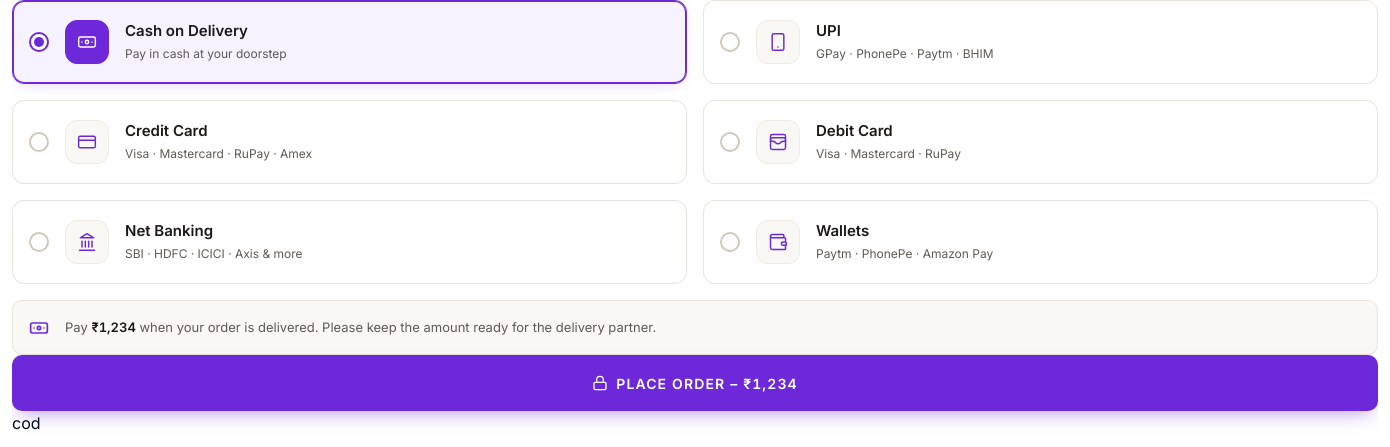
Scenario: CheckoutCta › Debit Card never submits: no payment attempt, no silent switch to COD
What coordinates should you click on to do the following:
click the radio button labelled "Debit Card Visa · Mastercard · RuPay"
I would click on:
 (778, 142)
Its box is [703,100,1378,184].
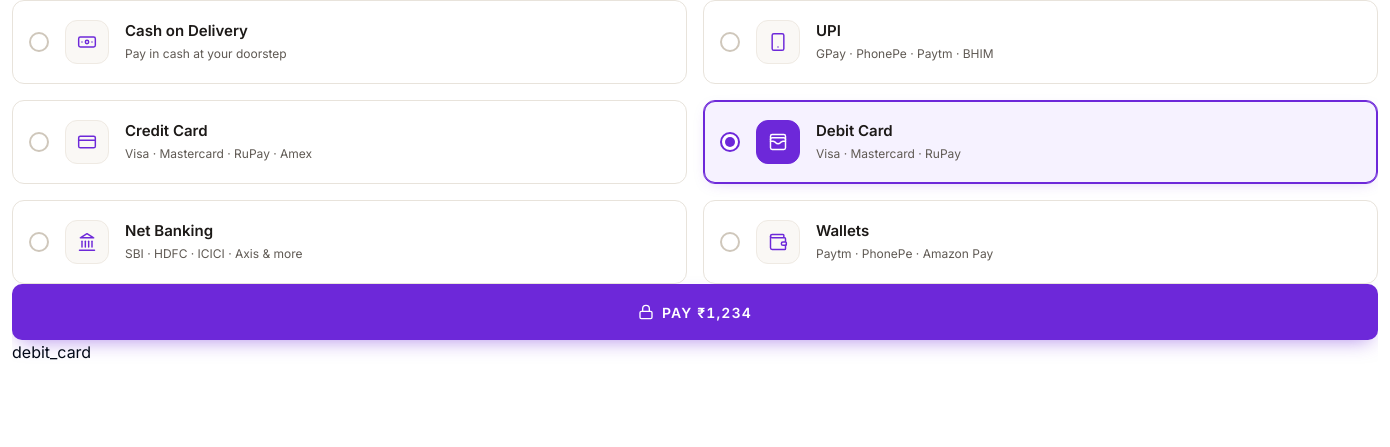
What coordinates should you click on to do the following:
click the button "Pay ₹1,234"
I would click on:
 (695, 312)
Its box is [12,284,1378,340].
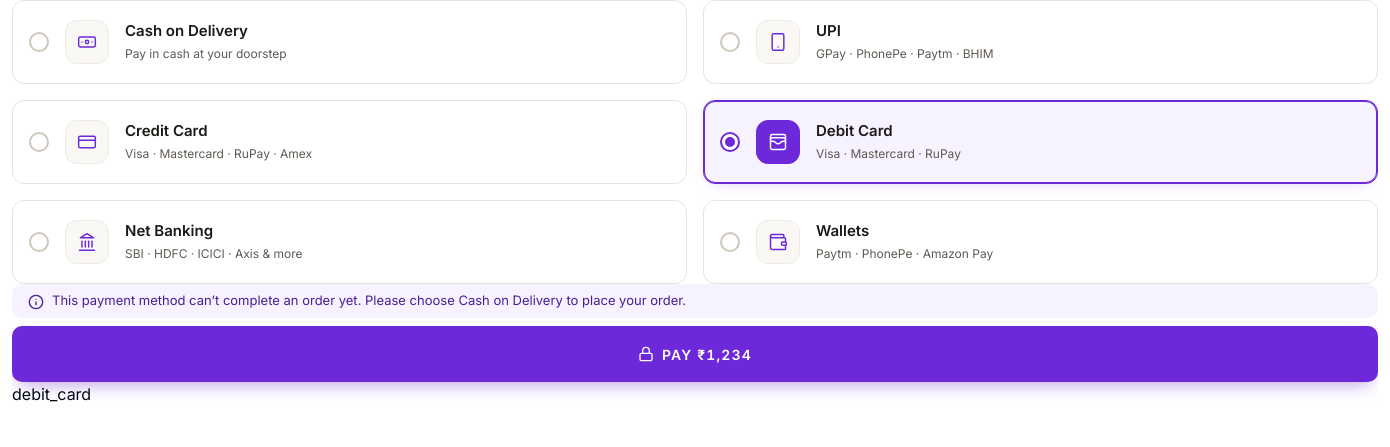
Expected: the radio button labelled "Debit Card Visa · Mastercard · RuPay" is checked, [703,100,1378,184]
Expected: the message shows "Please choose Cash on Delivery", [52,292,686,308]
